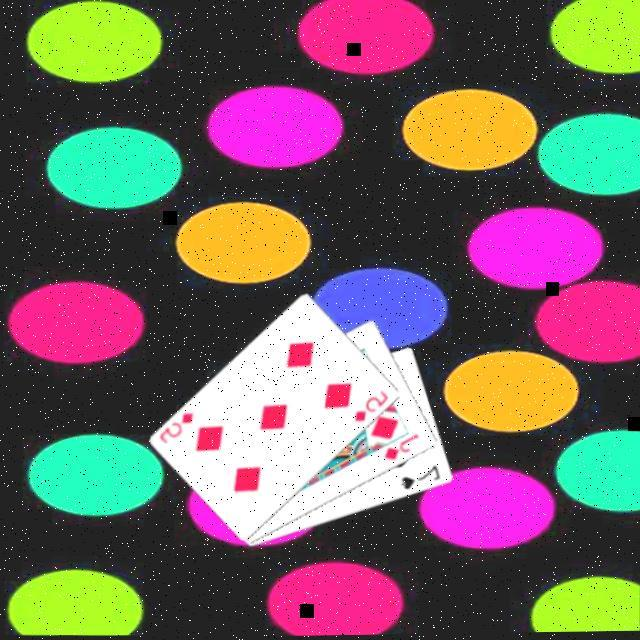5D: (348, 386, 389, 425), (153, 407, 194, 446)
7S: (394, 461, 441, 493)
JD: (377, 429, 419, 464)
